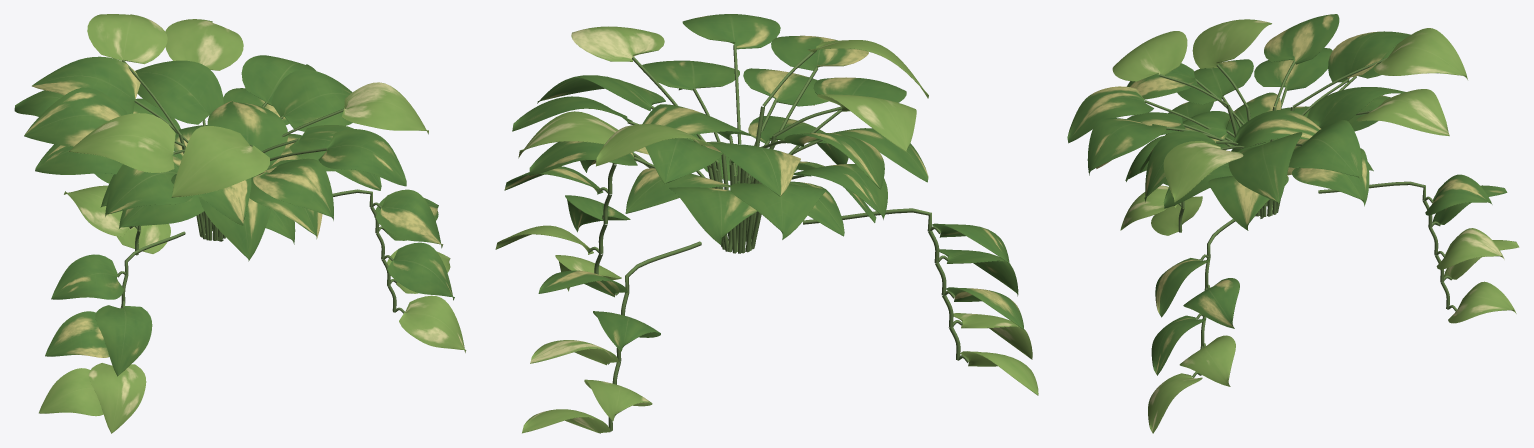
Rendered from pothos-stage-6.glb.
3 views of the same model, side by side, from view 1: azimuth 30°, elevation 25°; view 2: azimuth 150°, elevation 25°; view 3: azimuth 270°, elevation 25° (orthographic). The views are drawn at different scales.
Parts seen in each view (by area): view 1: Leaf_26, Leaf_23, Leaf_14, Leaf_20, Leaf_11, Leaf_17, Leaf_25, Leaf_22, PlantBranches, Leaf_18, Leaf_21, Leaf_24 (+22 smaller); view 2: PlantBranches, Leaf_12, Leaf_23, Leaf_9, Leaf_21, Leaf_24, Leaf_17, Leaf_14, Leaf_18, Leaf_16, Leaf_22, Leaf_1 (+27 smaller); view 3: PlantBranches, Leaf_25, Leaf_11, Leaf_19, Leaf_24, Leaf_22, Leaf_21, Leaf_26, Leaf_23, Leaf_20, Leaf_17, Leaf_18 (+27 smaller).
Boxes of the visible parts, bbox=[...] form: Leaf_26: bbox=[171, 126, 269, 197]; Leaf_23: bbox=[68, 113, 175, 172]; Leaf_14: bbox=[135, 60, 223, 124]; Leaf_20: bbox=[24, 87, 126, 146]; Leaf_11: bbox=[271, 69, 352, 131]; Leaf_17: bbox=[32, 56, 140, 114]; Leaf_25: bbox=[87, 14, 167, 64]; Leaf_22: bbox=[165, 19, 243, 70]; PlantBranches: bbox=[117, 59, 405, 313]; Leaf_18: bbox=[253, 158, 333, 220]; Leaf_21: bbox=[318, 129, 406, 186]; Leaf_24: bbox=[342, 82, 428, 134]; PlantBranches: bbox=[587, 44, 969, 433]; Leaf_12: bbox=[730, 183, 826, 239]; Leaf_23: bbox=[817, 94, 916, 151]; Leaf_9: bbox=[669, 187, 757, 245]; Leaf_21: bbox=[682, 14, 780, 49]; Leaf_24: bbox=[571, 26, 664, 61]; Leaf_17: bbox=[705, 142, 800, 196]; Leaf_14: bbox=[645, 138, 722, 184]; Leaf_18: bbox=[771, 35, 868, 70]; Leaf_16: bbox=[642, 60, 739, 90]; Leaf_22: bbox=[518, 111, 618, 158]; Leaf_1: bbox=[625, 168, 730, 213]; PlantBranches: bbox=[1144, 58, 1457, 378]; Leaf_25: bbox=[1374, 28, 1467, 79]; Leaf_11: bbox=[1228, 132, 1302, 203]; Leaf_19: bbox=[1289, 120, 1362, 181]; Leaf_24: bbox=[1163, 140, 1243, 202]; Leaf_22: bbox=[1356, 89, 1449, 136]; Leaf_21: bbox=[1087, 117, 1166, 175]; Leaf_26: bbox=[1112, 31, 1187, 81]; Leaf_23: bbox=[1192, 19, 1271, 68]; Leaf_20: bbox=[1264, 14, 1339, 64]; Leaf_17: bbox=[1328, 31, 1410, 82]; Leaf_18: bbox=[1067, 86, 1153, 143].
Bounding box in the file's own units: 3.21 × 2.05 × 2.9.
Materials: 3 (2 with a texture image).
